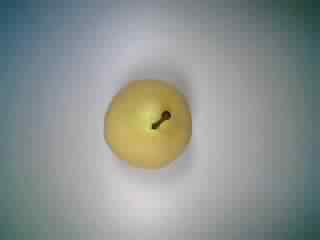pear: (93, 77, 198, 175)
